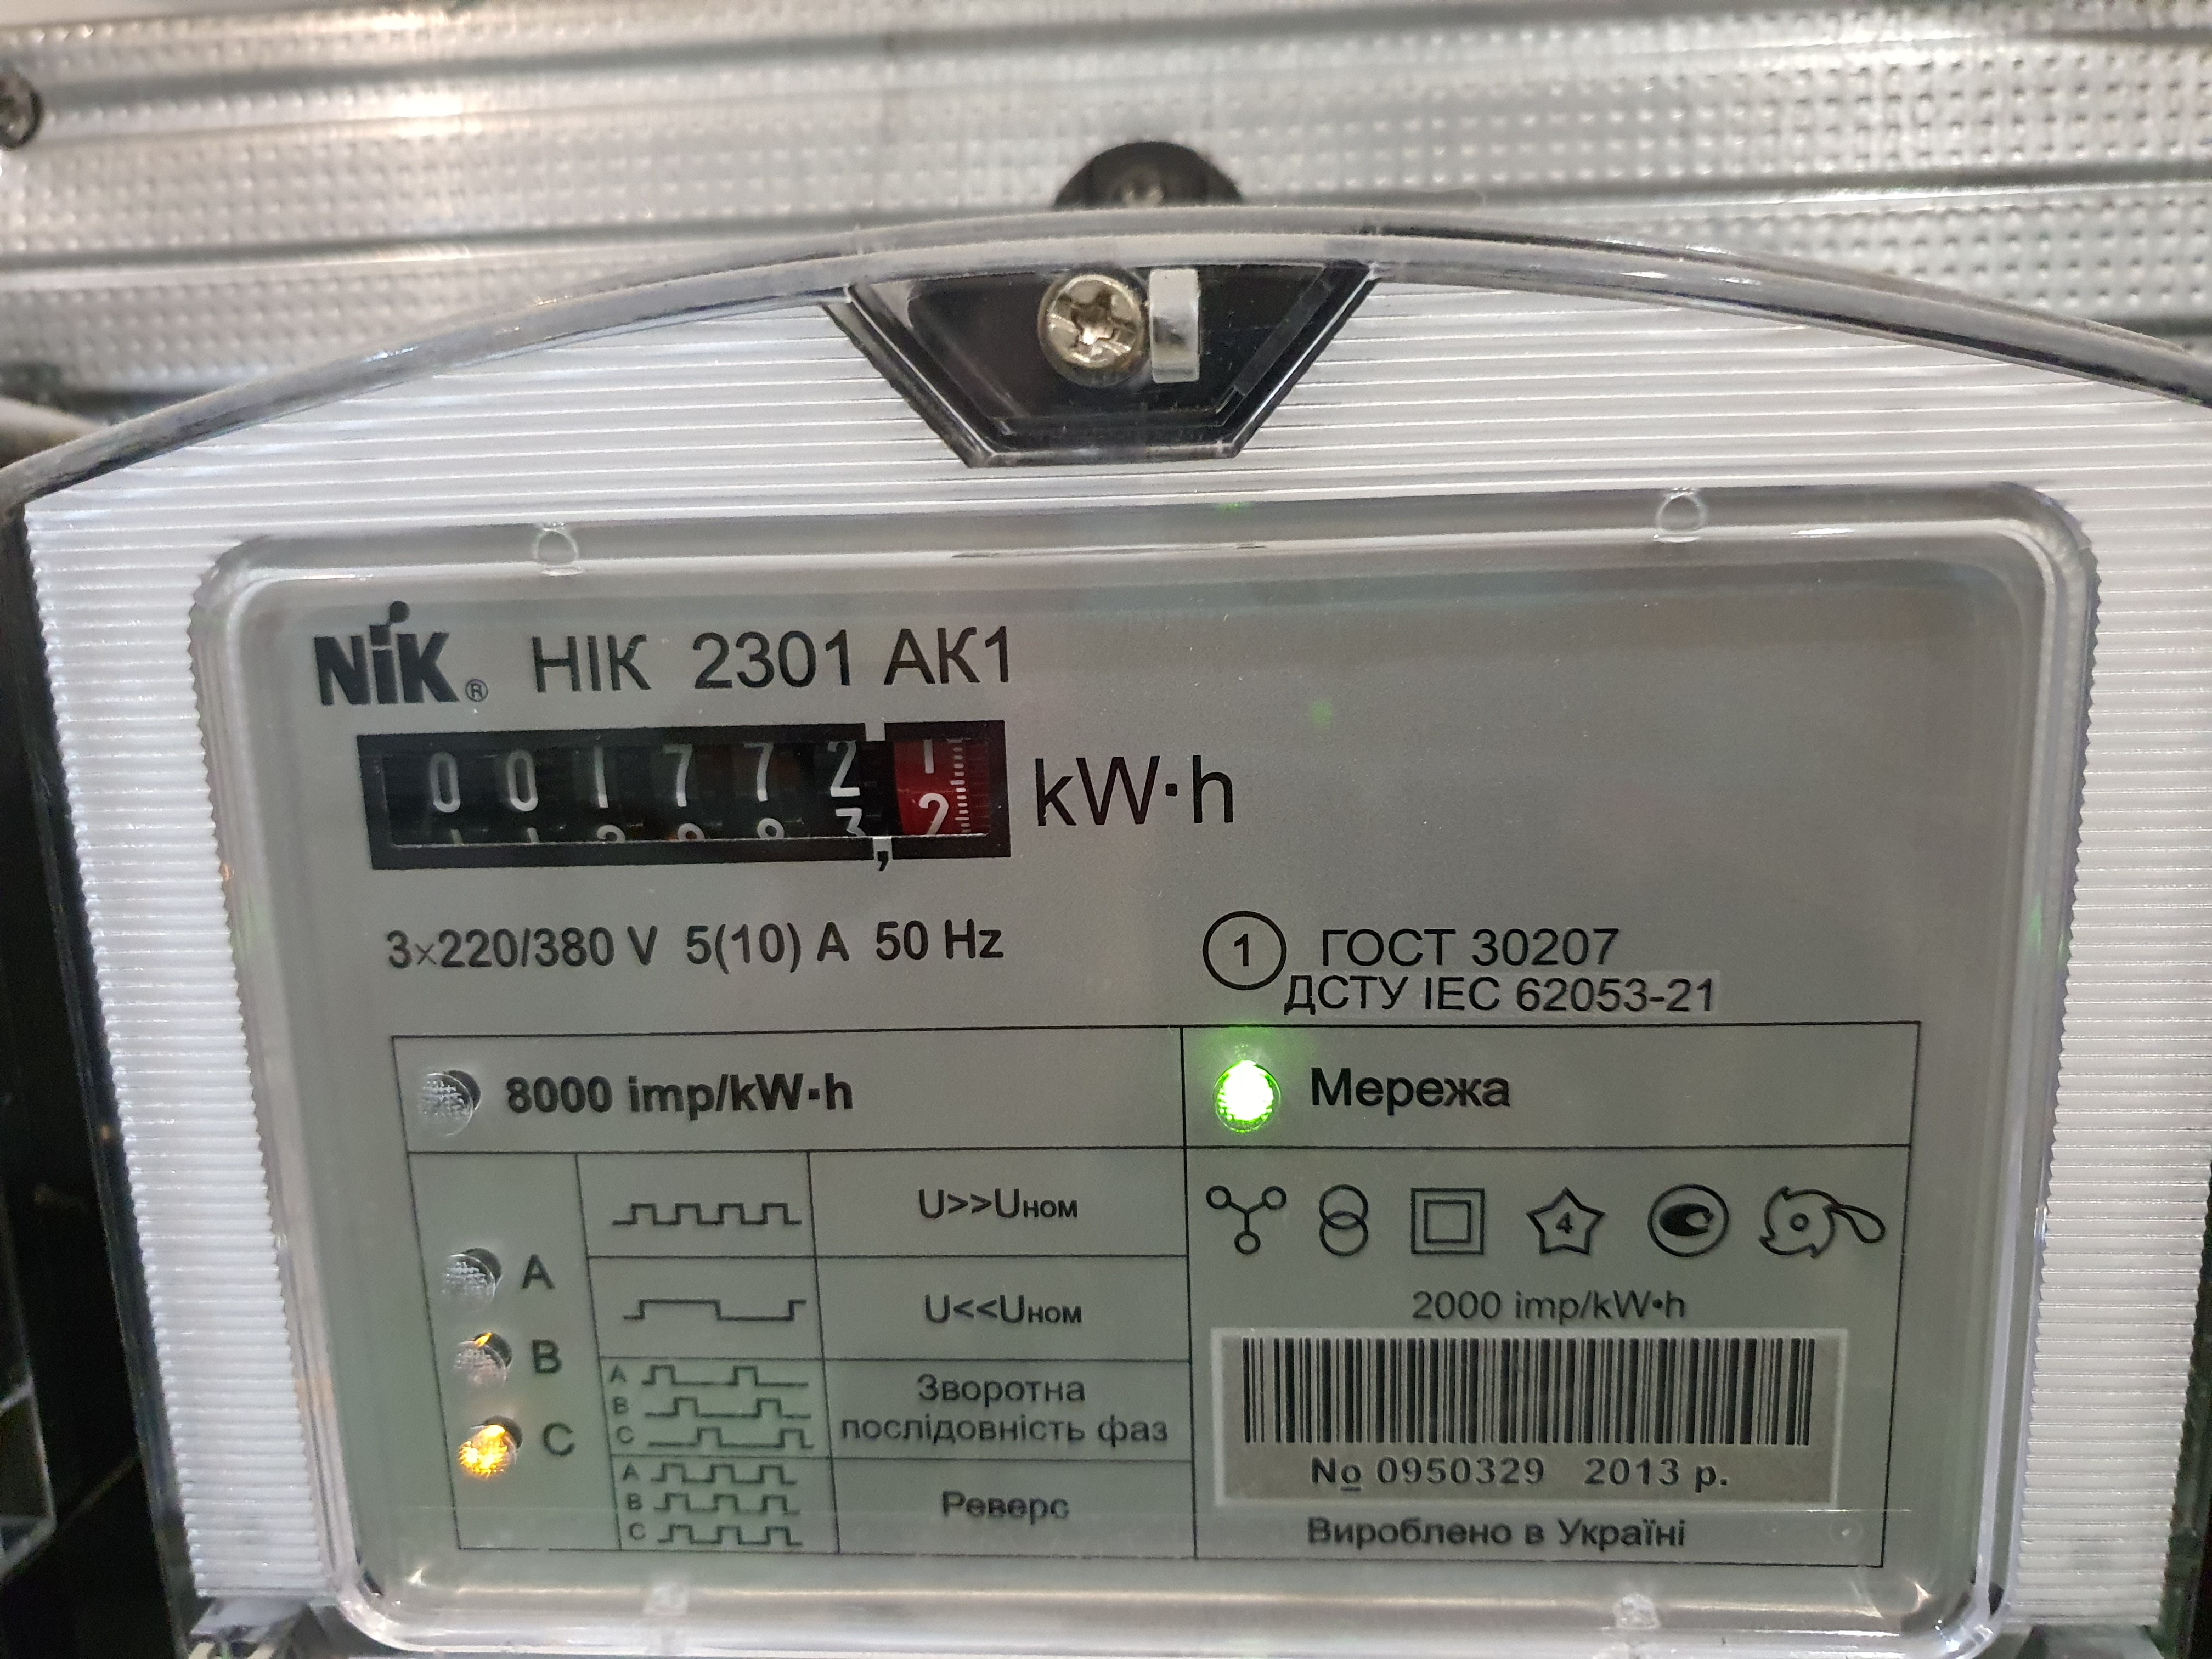0: (420, 746, 467, 816), (502, 746, 542, 814)
1: (585, 744, 615, 810), (918, 735, 941, 781)
2: (824, 739, 864, 802), (911, 788, 951, 836)
3: (833, 805, 869, 840)
7: (660, 741, 698, 812), (740, 739, 777, 805)
screen: (338, 702, 1042, 889)
